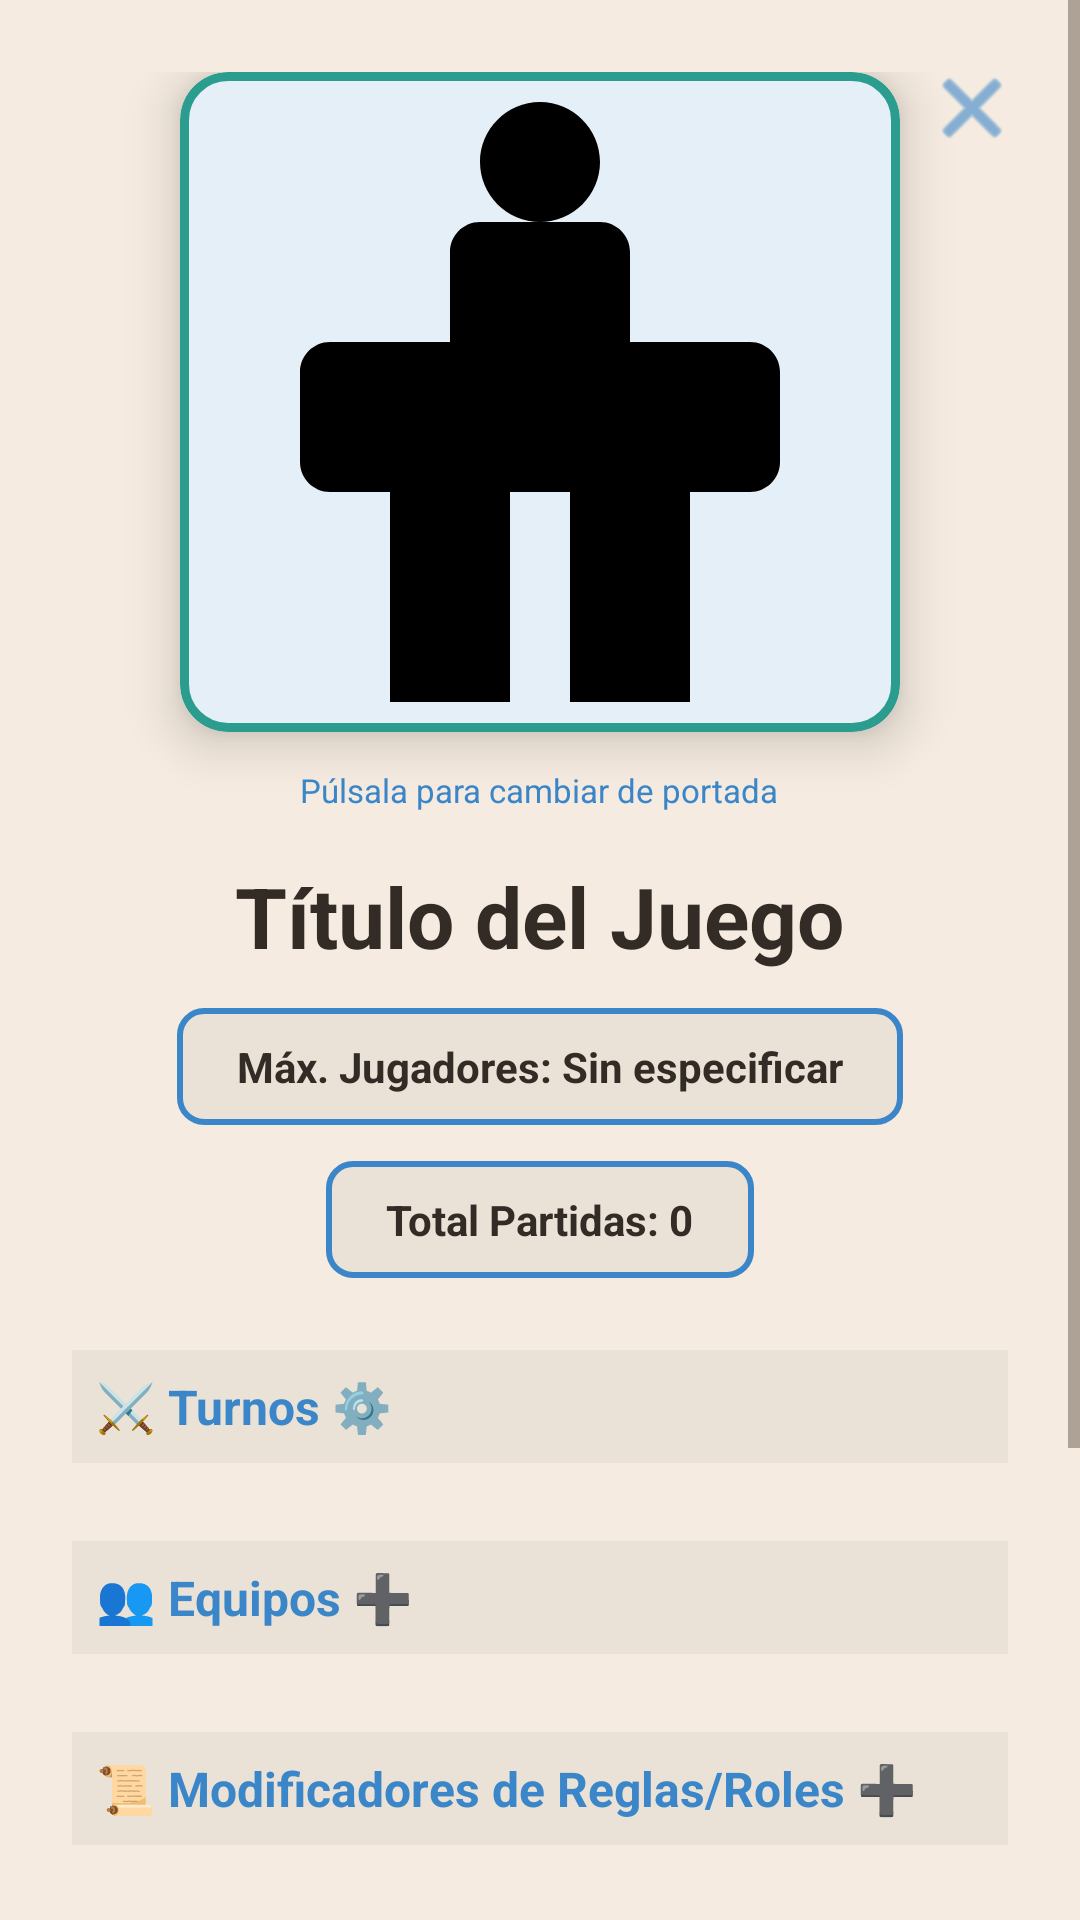

Screen size 1080w x 1920h. Icon name, then its box in pixels as bbox=(x1, y1, x2, y2):
Cerrar: bbox=(942, 78, 1002, 138)
